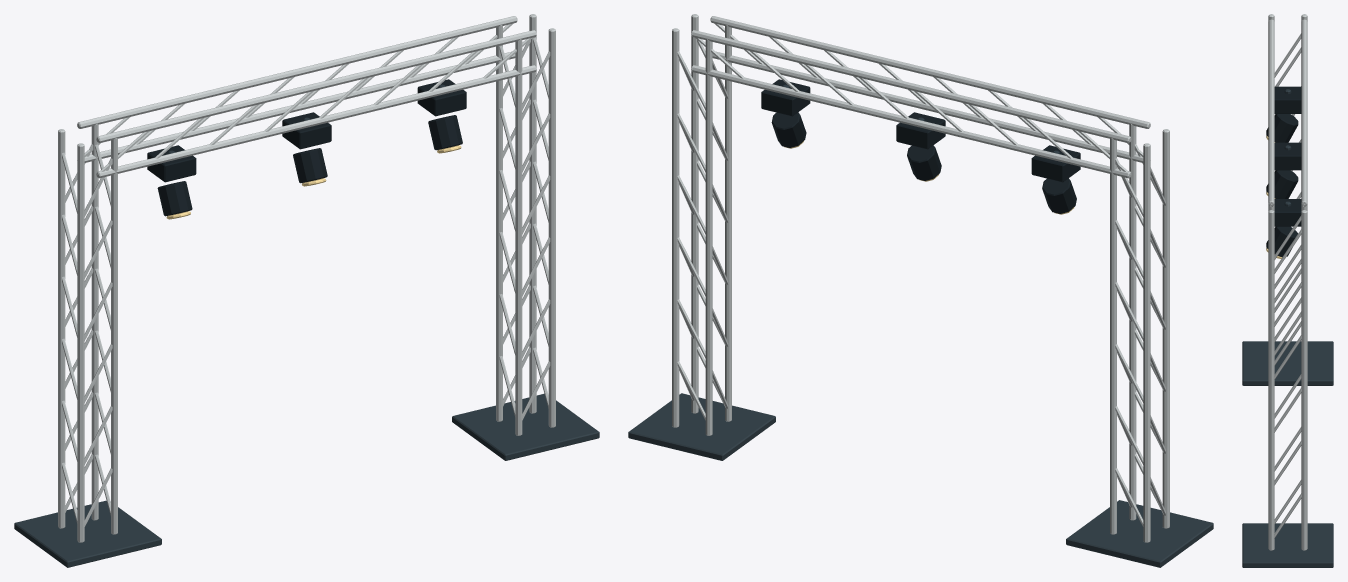
The model's file is b20_event_lighting_truss_goalpost.glb.
3 views of the same model, side by side, from view 1: azimuth 30°, elevation 25°; view 2: azimuth 150°, elevation 25°; view 3: azimuth 270°, elevation 25° (orthographic). The views are drawn at different scales.
Parts seen in each view (by area): view 1: b20_event_lighting_truss_goalpost; view 2: b20_event_lighting_truss_goalpost; view 3: b20_event_lighting_truss_goalpost.
Part boxes in pixels (x1=…): b20_event_lighting_truss_goalpost: x1=14, y1=14, x2=599, y2=567; b20_event_lighting_truss_goalpost: x1=628, y1=14, x2=1213, y2=567; b20_event_lighting_truss_goalpost: x1=1242, y1=14, x2=1333, y2=567.
Size of the model in its own units: 4.14 by 3.03 by 0.72.
